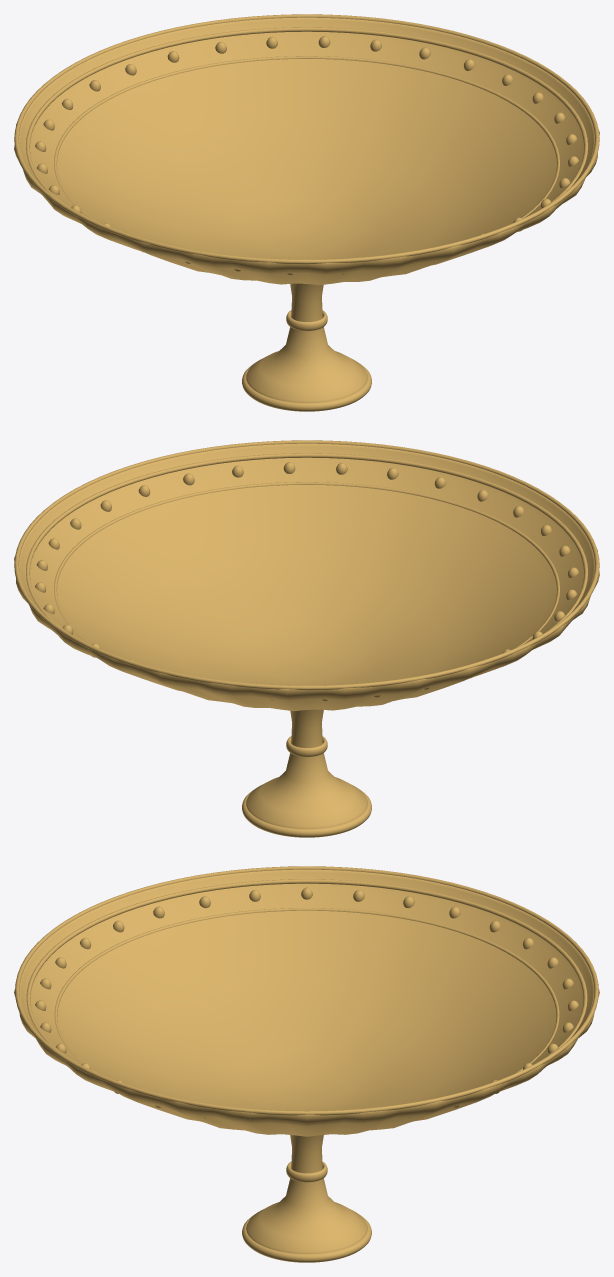
The model's file is bowl-v3.glb.
3 views of the same model, one above another, from view 1: azimuth 30°, elevation 25°; view 2: azimuth 150°, elevation 25°; view 3: azimuth 270°, elevation 25° (orthographic).
Parts seen in each view (by area): view 1: MIDIS_Patera_V3_Closed_Grip; view 2: MIDIS_Patera_V3_Closed_Grip; view 3: MIDIS_Patera_V3_Closed_Grip.
Part boxes in pixels (x1,y1,x2,y2): MIDIS_Patera_V3_Closed_Grip: [14, 14, 599, 411]; MIDIS_Patera_V3_Closed_Grip: [14, 440, 599, 837]; MIDIS_Patera_V3_Closed_Grip: [14, 866, 599, 1262].
Bounding box in the file's own units: 1.78 × 0.831 × 1.78.
